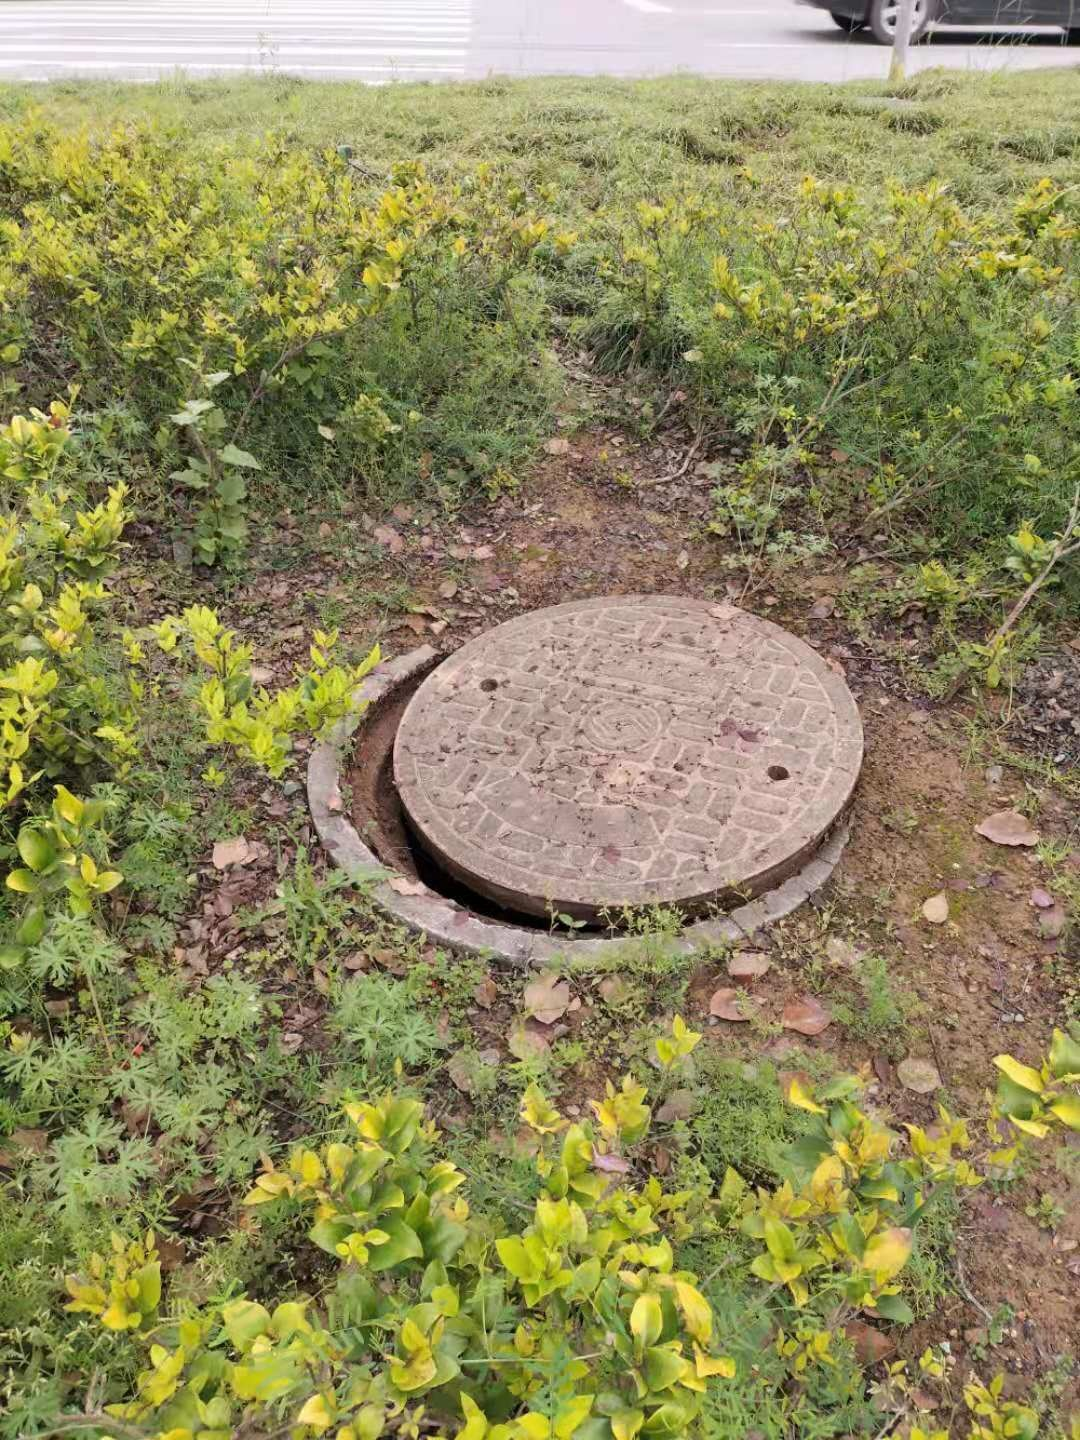uncovered: (305, 595, 864, 966)
